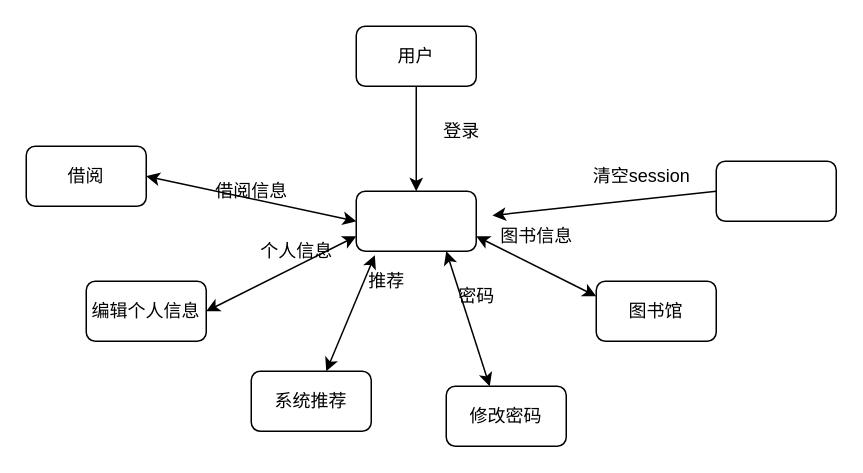
Some shapes in this 863 by 473 pixel diagram are drawn without their labels. The centre of each missing label's shape, as x and y in pixels:
图书管理系统: the point at 415,220
退出: the point at 775,190
